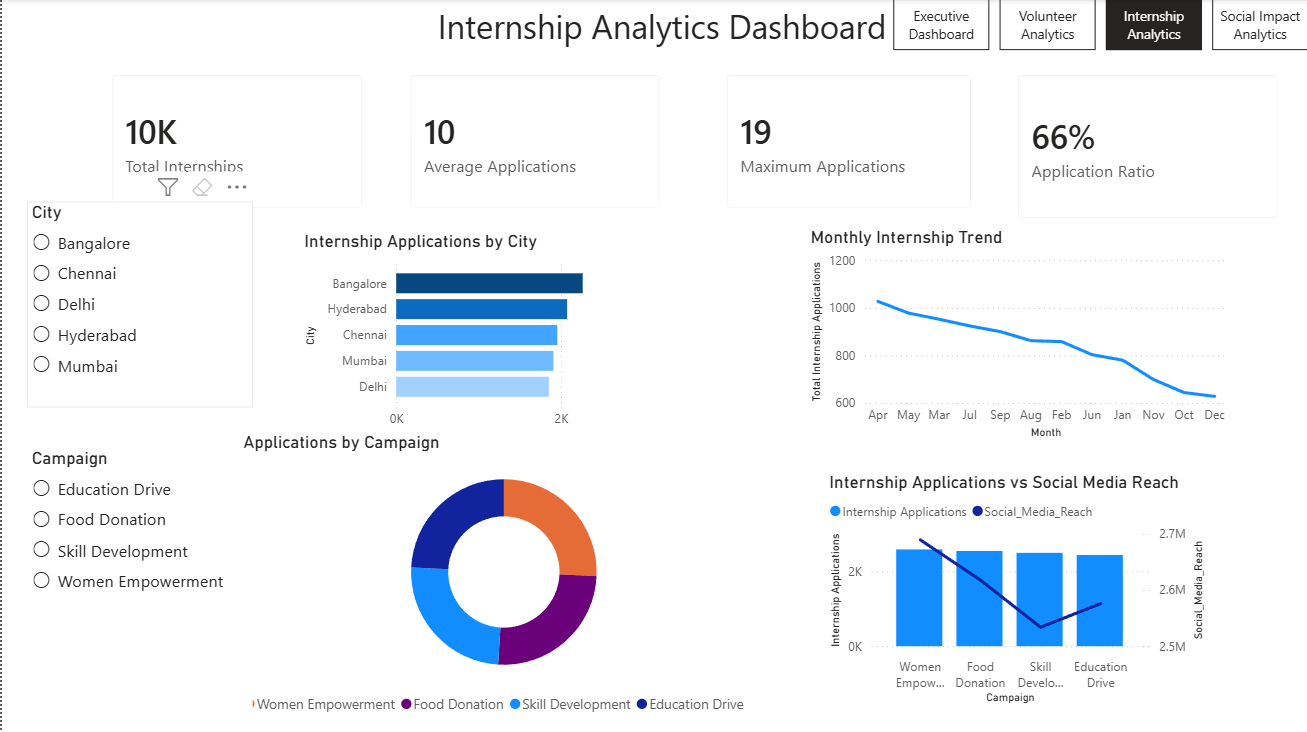

The page's visual inventory and layout, read from the dashboard file:
{"tool":"powerbi","page":{"name":"Internship Analytics","canvas":[1280,720],"ordinal":2},"visuals":[{"type":"textbox","box":[9.6,0,1255.6,279.9],"z":0},{"type":"cardVisual","fields":{"Data":["Sheet1.Total Internships"]},"box":[90.6,57.6,279.9,164.7],"z":1},{"type":"cardVisual","fields":{"Data":["Sheet1.Average Applications"]},"box":[382.8,57.6,278.6,164.7],"z":2},{"type":"cardVisual","fields":{"Data":["Sheet1.Maximum Applications"]},"box":[691.6,57.6,273.1,164.7],"z":3},{"type":"cardVisual","fields":{"Data":["Sheet1.Application Ratio"]},"box":[977,57.6,288.2,174.3],"z":4},{"type":"clusteredBarChart","title":"Internship Applications by City","fields":{"Category":["Sheet1.City"],"Y":["Sum(Sheet1.Internship_Applications)"]},"box":[290.9,226.4,348.5,212.7],"z":5},{"type":"lineChart","title":"Monthly Internship Trend","fields":{"Category":["Sheet1.Month"],"Y":["Sum(Sheet1.Internship_Applications)"]},"box":[786.3,222.3,417.2,212.7],"z":6},{"type":"donutChart","title":"Applications by Campaign","fields":{"Category":["Sheet1.Campaign"],"Y":["Sum(Sheet1.Internship_Applications)"]},"box":[230.5,422.6,520.1,285.4],"z":7},{"type":"lineClusteredColumnComboChart","title":"Internship Applications vs Social Media Reach","fields":{"Category":["Sheet1.Campaign"],"Y":["Sum(Sheet1.Internship_Applications)"],"Y2":["Sum(Sheet1.Social_Media_Reach)"]},"box":[804.1,462.4,377.4,231.9],"z":8},{"type":"listSlicer","fields":{"Values":["Sheet1.City"]},"box":[24.7,197.6,220.9,201.7],"z":9},{"type":"listSlicer","fields":{"Values":["Sheet1.Campaign"]},"box":[24.7,439.1,220.9,269],"z":10},{"type":"pageNavigator","box":[871.9,0,408.4,50.1],"z":11}]}

Visuals, with their boxes in screenshot pixels (x1, y1, x2, y2), scaled from the page's 1280x720 canvas onto the 1307x732 screenshot:
textbox: [10,0,1292,285]
cardVisual - Sheet1.Total Internships: [93,59,378,226]
cardVisual - Sheet1.Average Applications: [391,59,675,226]
cardVisual - Sheet1.Maximum Applications: [706,59,985,226]
cardVisual - Sheet1.Application Ratio: [998,59,1292,236]
"Internship Applications by City" clusteredBarChart: [297,230,653,446]
"Monthly Internship Trend" lineChart: [803,226,1229,442]
"Applications by Campaign" donutChart: [235,430,766,720]
"Internship Applications vs Social Media Reach" lineClusteredColumnComboChart: [821,470,1206,706]
listSlicer - Sheet1.City: [25,201,251,406]
listSlicer - Sheet1.Campaign: [25,446,251,720]
pageNavigator: [890,0,1306,51]
